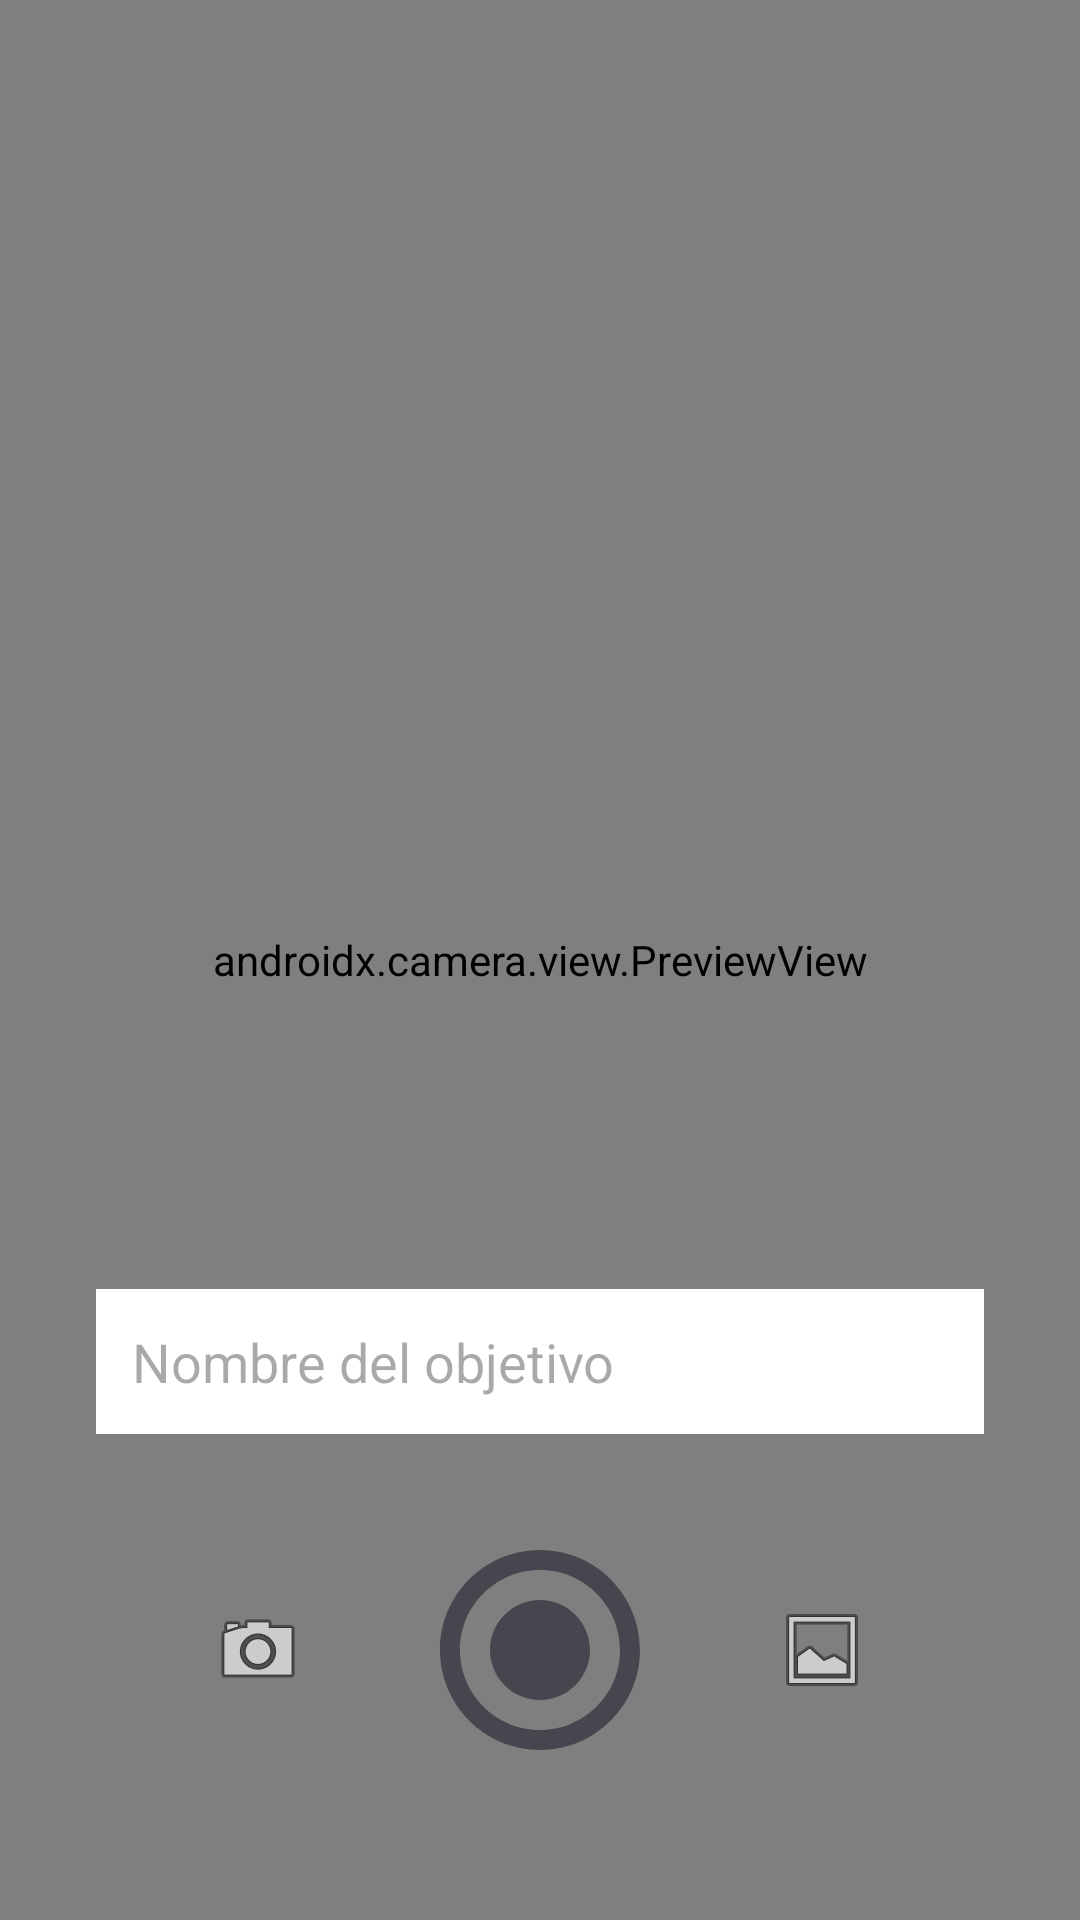

Screen size 1080x1920. Icon name, then its box in pixels as (x1, y1, x2, y2):
Cambiar camara: (221, 1619, 295, 1678)
Galleria: (786, 1614, 858, 1686)
radio checked: (440, 1550, 640, 1750)
